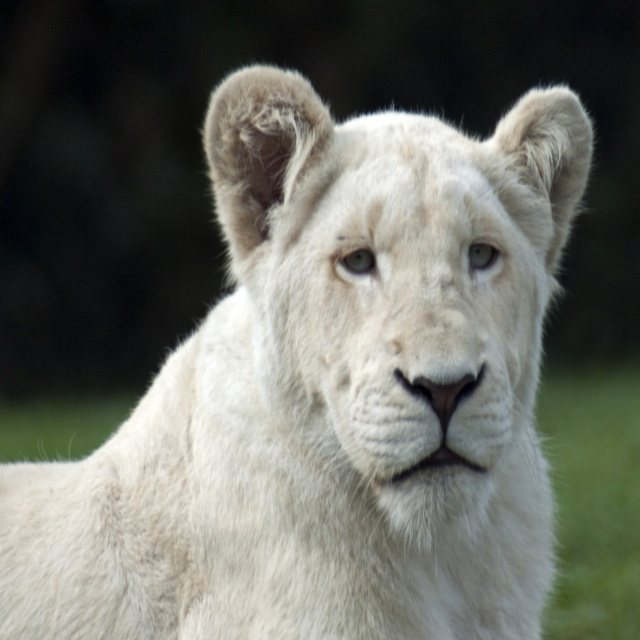Lion: (0, 63, 593, 640)
